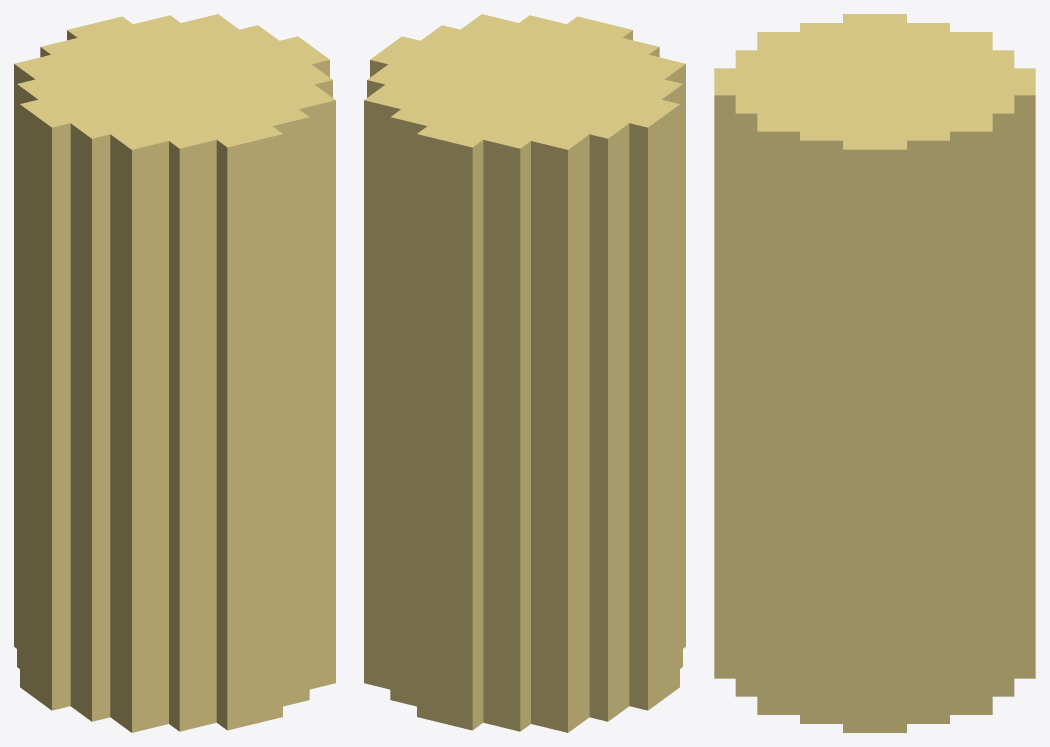
File: Column.fbx
3 views of the same model, side by side, from view 1: azimuth 30°, elevation 25°; view 2: azimuth 150°, elevation 25°; view 3: azimuth 270°, elevation 25° (orthographic).
Visible parts, largest first — view 1: Column; view 2: Column; view 3: Column.
Boxes of the visible parts, bbox=[...] form: Column: bbox=[14, 14, 335, 732]; Column: bbox=[364, 14, 685, 732]; Column: bbox=[714, 14, 1035, 732].
Size of the model in its own units: 0.5208 by 0.5208 by 1.04.
